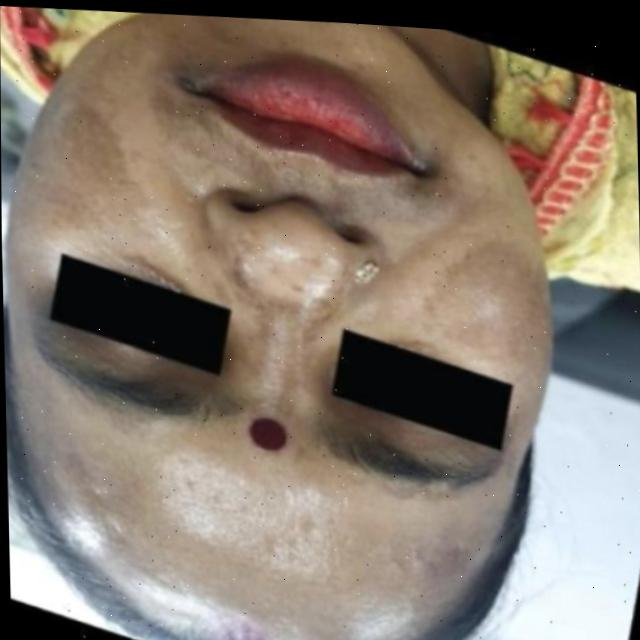Melasma: (23, 409, 149, 569), (445, 252, 547, 373), (62, 81, 137, 220), (241, 244, 300, 389), (389, 517, 476, 585)
